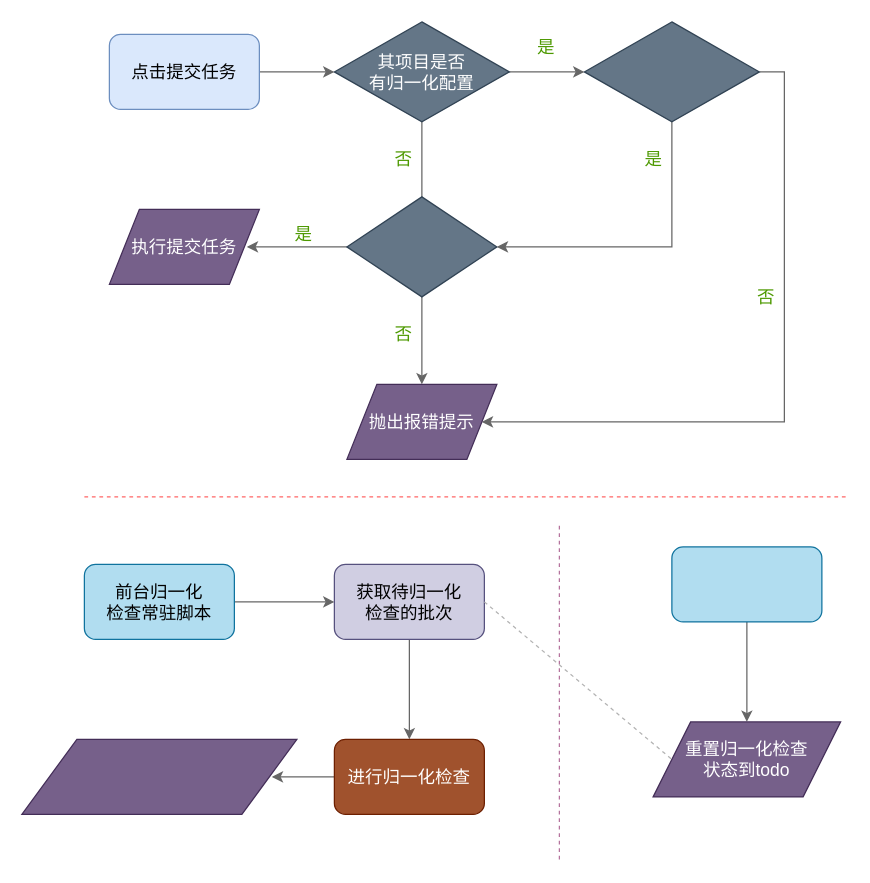
Some shapes in this 870 by 883 pixel diagram are drawn without their labels. Each missing label, with the centre of its shape:
"修改归一化 检查状态：success | fail 并把结果写入result字段" belongs at point 159,776.
"其它检查" belongs at point 421,246.
"是否成功 归一化检查" belongs at point 671,71.
"答案再次保存 或提交时" belongs at point 746,584.
